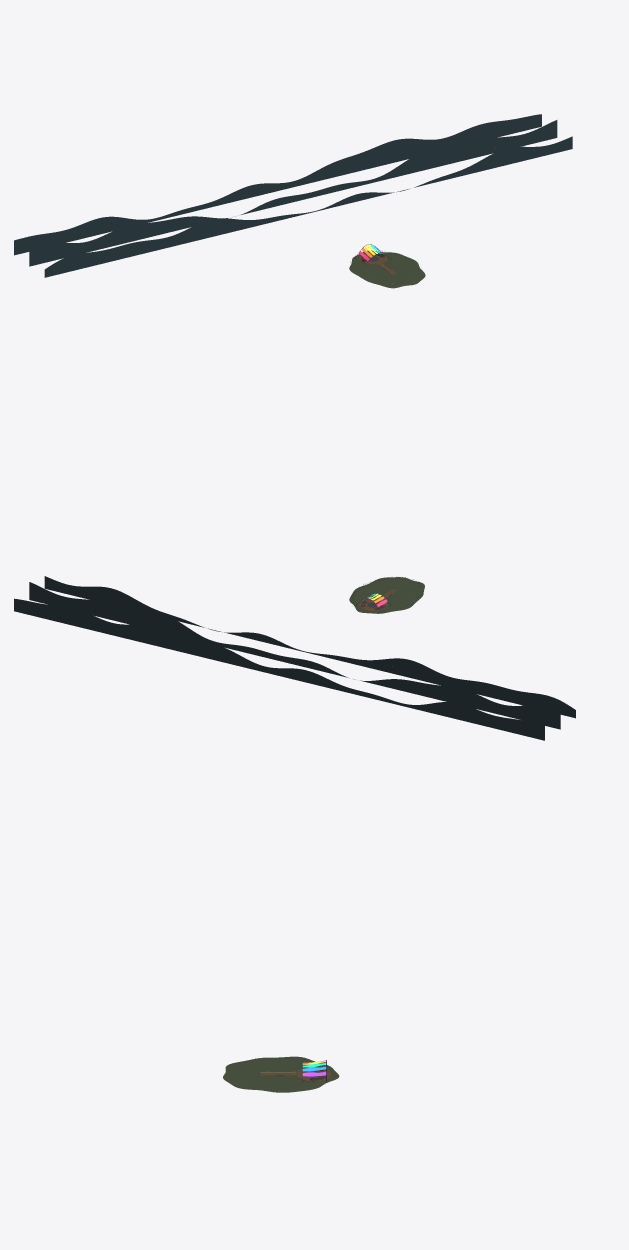
The model's file is spectrum-commons.glb.
3 views of the same model, one above another, from view 1: azimuth 30°, elevation 25°; view 2: azimuth 150°, elevation 25°; view 3: azimuth 270°, elevation 25° (orthographic). The views are drawn at different scales.
Visible parts, largest first — view 1: Rainbow_venue_01, Rainbow_venue_00; view 2: Rainbow_venue_01, Rainbow_venue_00; view 3: Rainbow_venue_00.
Part boxes in pixels (x1,y1,x2,y2): Rainbow_venue_01: [14, 114, 572, 277]; Rainbow_venue_00: [349, 250, 425, 288]; Rainbow_venue_01: [14, 576, 575, 740]; Rainbow_venue_00: [349, 577, 424, 613]; Rainbow_venue_00: [223, 1056, 339, 1092].
Size of the model in its own units: 598 by 241 by 473.
Materials: 17 (3 with a texture image).
